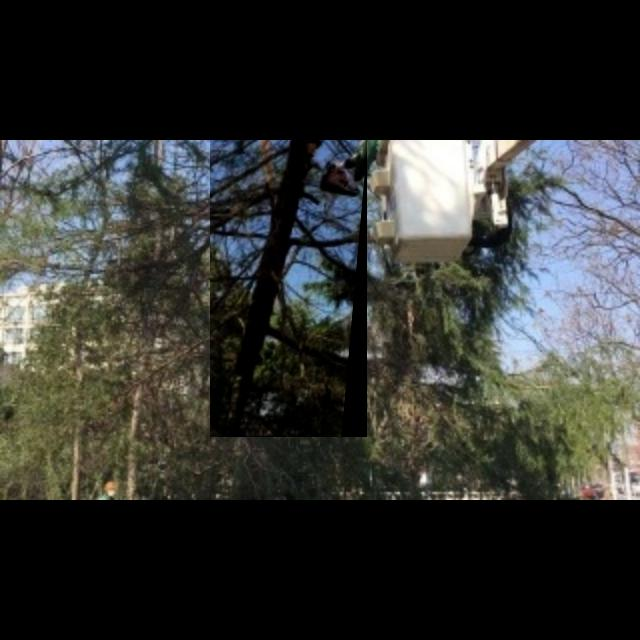Fallen Tree: (210, 140, 368, 438)
